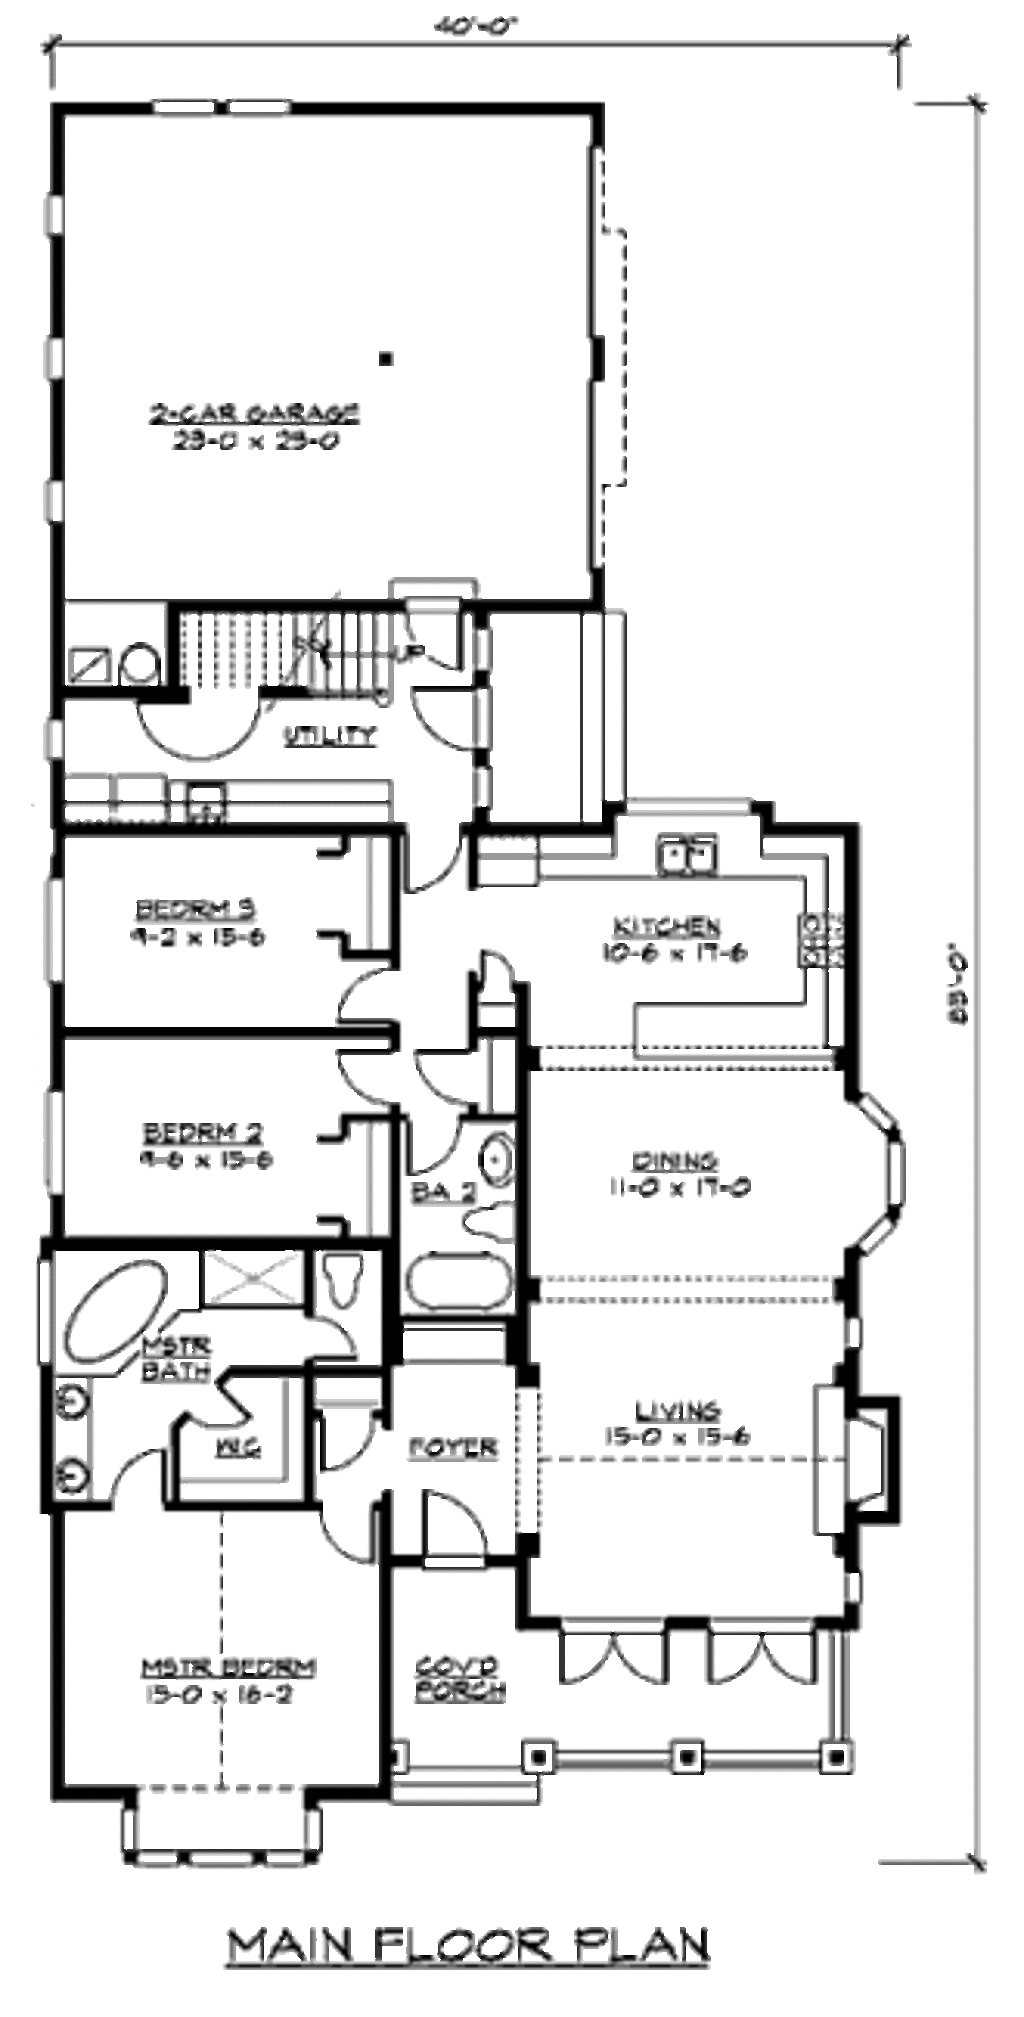door: (533, 1608, 673, 1697), (400, 560, 508, 670), (415, 1463, 516, 1576), (306, 1356, 400, 1467), (404, 1022, 526, 1106), (701, 1606, 823, 1685), (329, 937, 424, 1020), (155, 1383, 268, 1449), (308, 1035, 411, 1106), (402, 676, 495, 749), (102, 1435, 182, 1514), (389, 815, 466, 890), (313, 1501, 385, 1581), (389, 1097, 456, 1178), (293, 1306, 358, 1358)
large_sink: (456, 1198, 536, 1256), (312, 1245, 374, 1319)
small_sink: (48, 1362, 108, 1510), (455, 1134, 520, 1195)
stairs: (148, 578, 398, 701)
tub: (393, 1235, 529, 1333)
twin_sink: (637, 816, 739, 909)
window: (33, 856, 89, 991), (29, 1081, 88, 1197), (135, 91, 308, 121), (37, 174, 74, 256), (35, 322, 78, 392), (40, 470, 73, 533)
